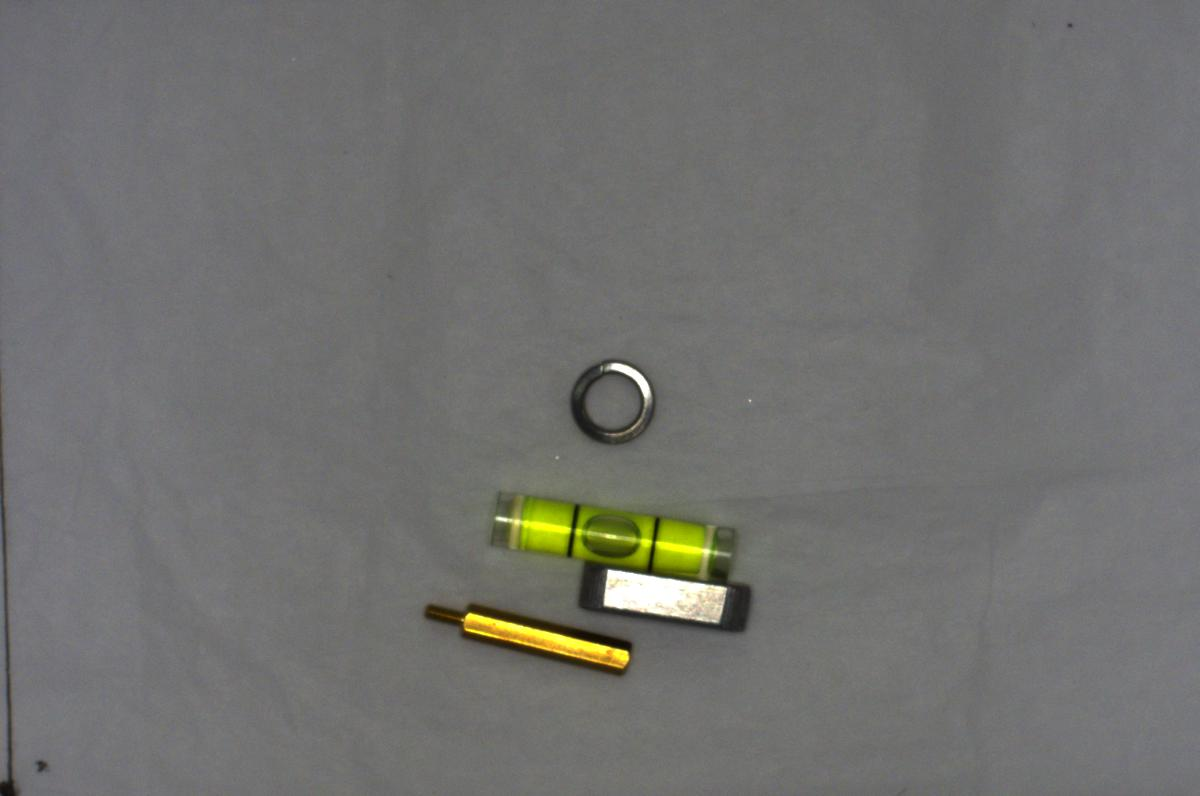Hexagon pillar: (424, 599, 634, 676)
Horizontal bubble: (482, 487, 745, 582)
Keybar: (580, 556, 754, 635)
Spring washer: (554, 346, 677, 456)
